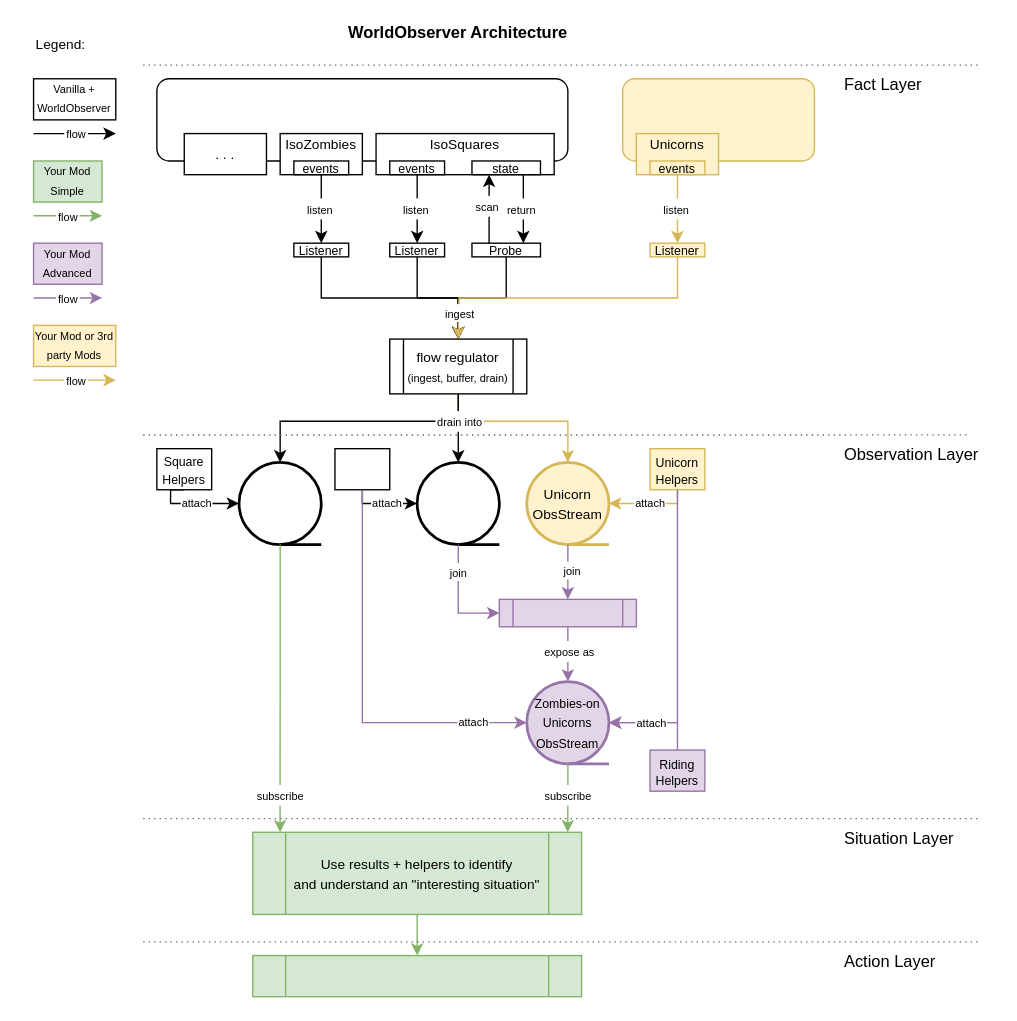
Some shapes in this 1017 by 1021 pixel diagram are drawn without their labels. The box of each missing label's shape, as (x1, y1, x2, y2) in pixels:
LQR Query: (498, 598, 636, 627)
Modded state (as it is and as it changes): (621, 77, 814, 161)
Square ObsStream: (237, 460, 322, 545)
Take action: (251, 954, 582, 997)
Vanilla World State (as it is and as it changes): (155, 77, 568, 161)
Zombie Helpers: (334, 447, 390, 490)
Zombies ObsStream: (415, 460, 500, 545)
